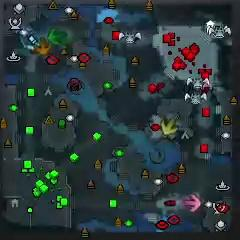x1: (184, 193, 202, 212)
x2: (161, 116, 179, 135)
x4: (47, 29, 66, 44)
x5: (34, 36, 52, 55)
